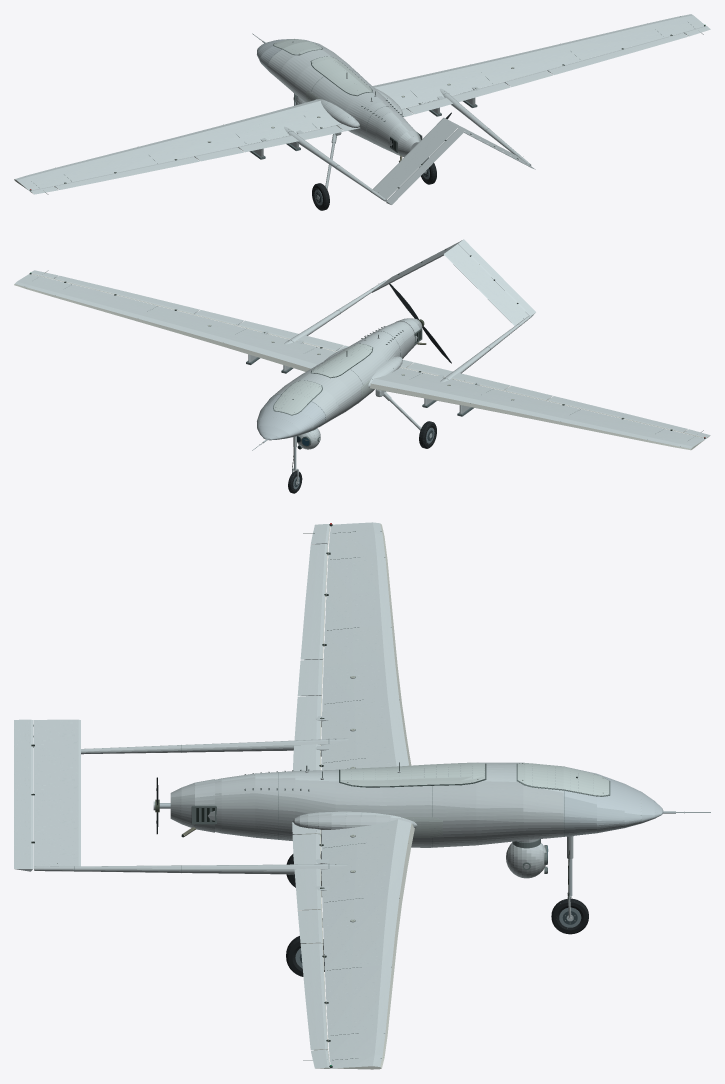
The model's file is ukrainian_bayraktar_tb2.obj.
The picture shows the model from 3 angles, top to bottom: view 1: azimuth 30°, elevation 25°; view 2: azimuth 150°, elevation 25°; view 3: azimuth 270°, elevation 25°; orthographic projection. The views are drawn at different scales.
Bounding box in the file's own units: 12 × 2.2 × 6.5.
